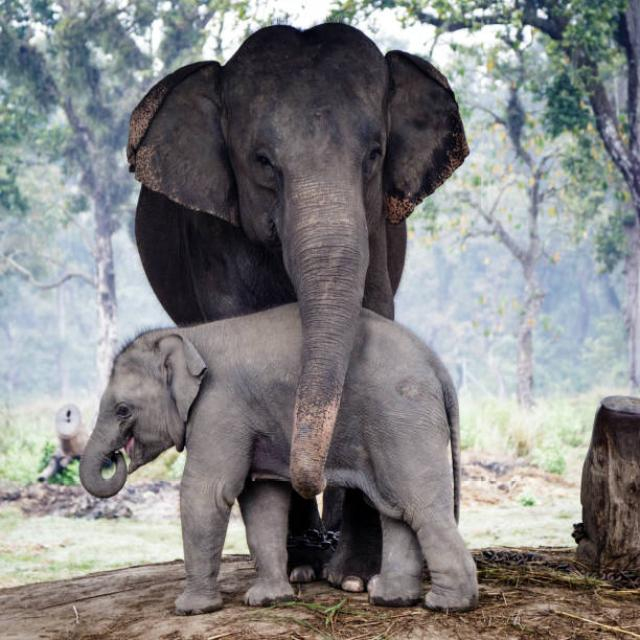Elephant: (124, 18, 499, 613), (82, 306, 482, 610)
